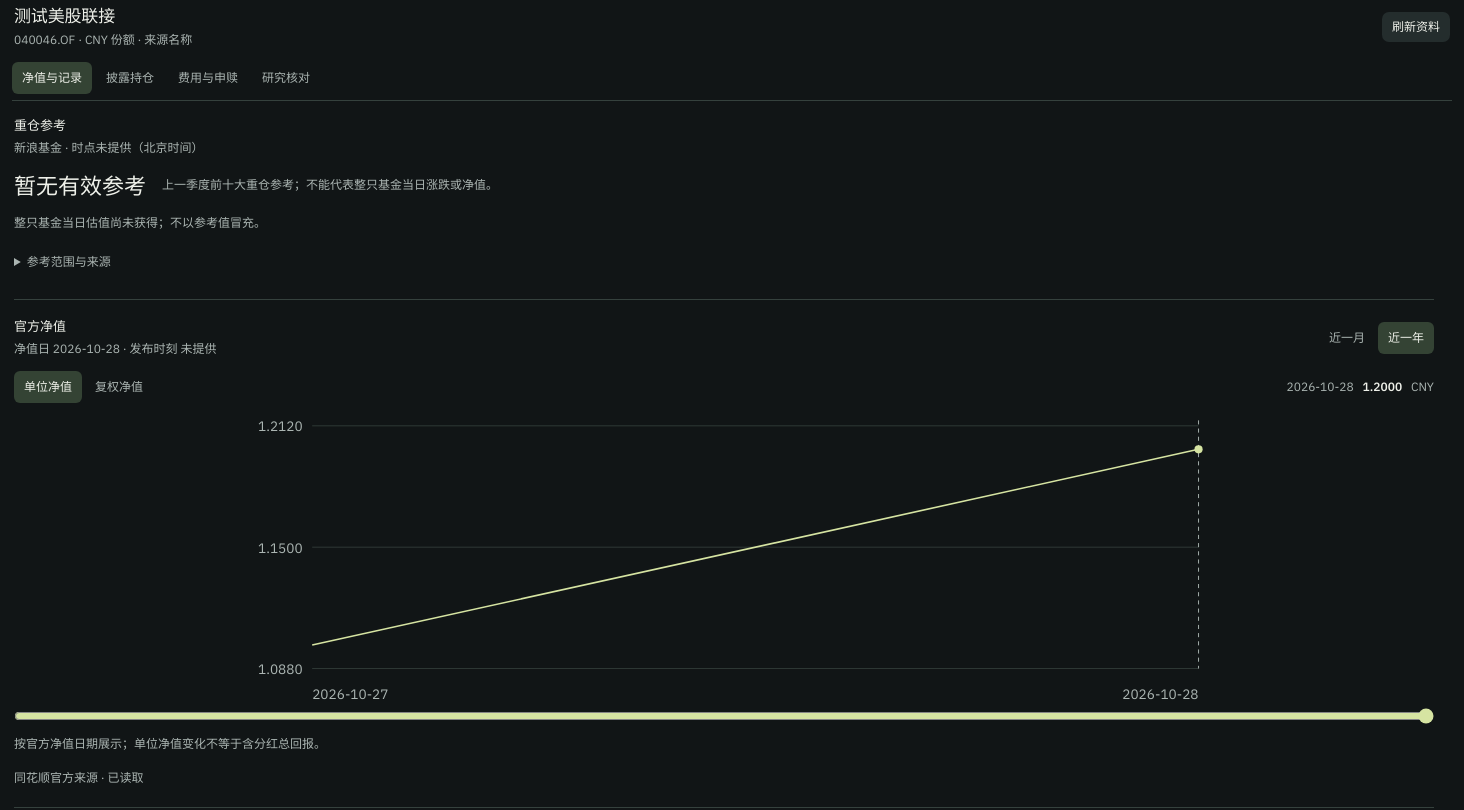
Test case: 基金真实阅读交互 › 净值日期游标与口径可切换，不把复权值当单位净值
Set the slider named "选择净值日期" to "0" at (22,716), box [14, 704, 1434, 728]
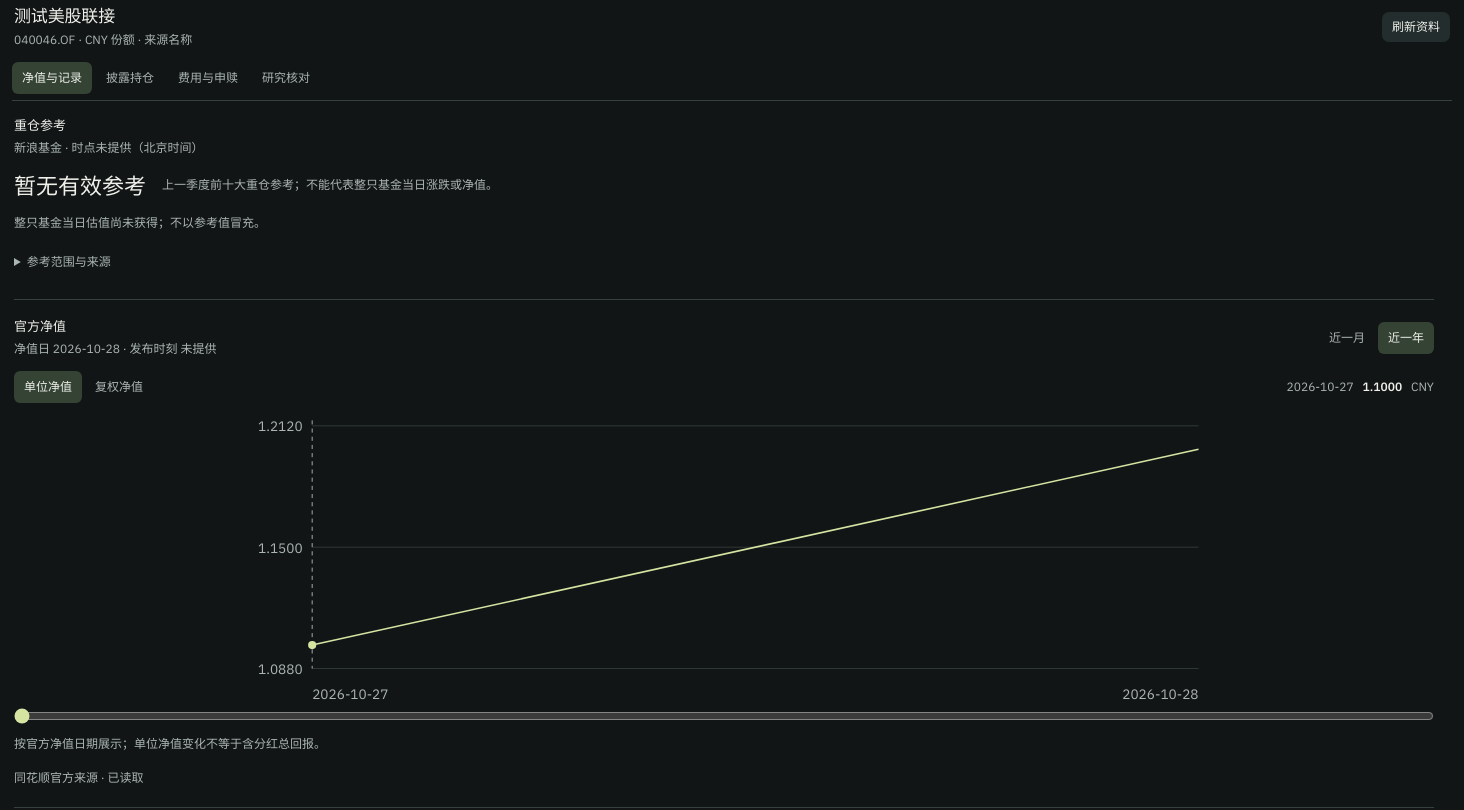
Expected: the text "1.1000" is shown, [1363, 379, 1402, 394]
Click the button "复权净值".
click(119, 387)  # box [85, 371, 153, 403]
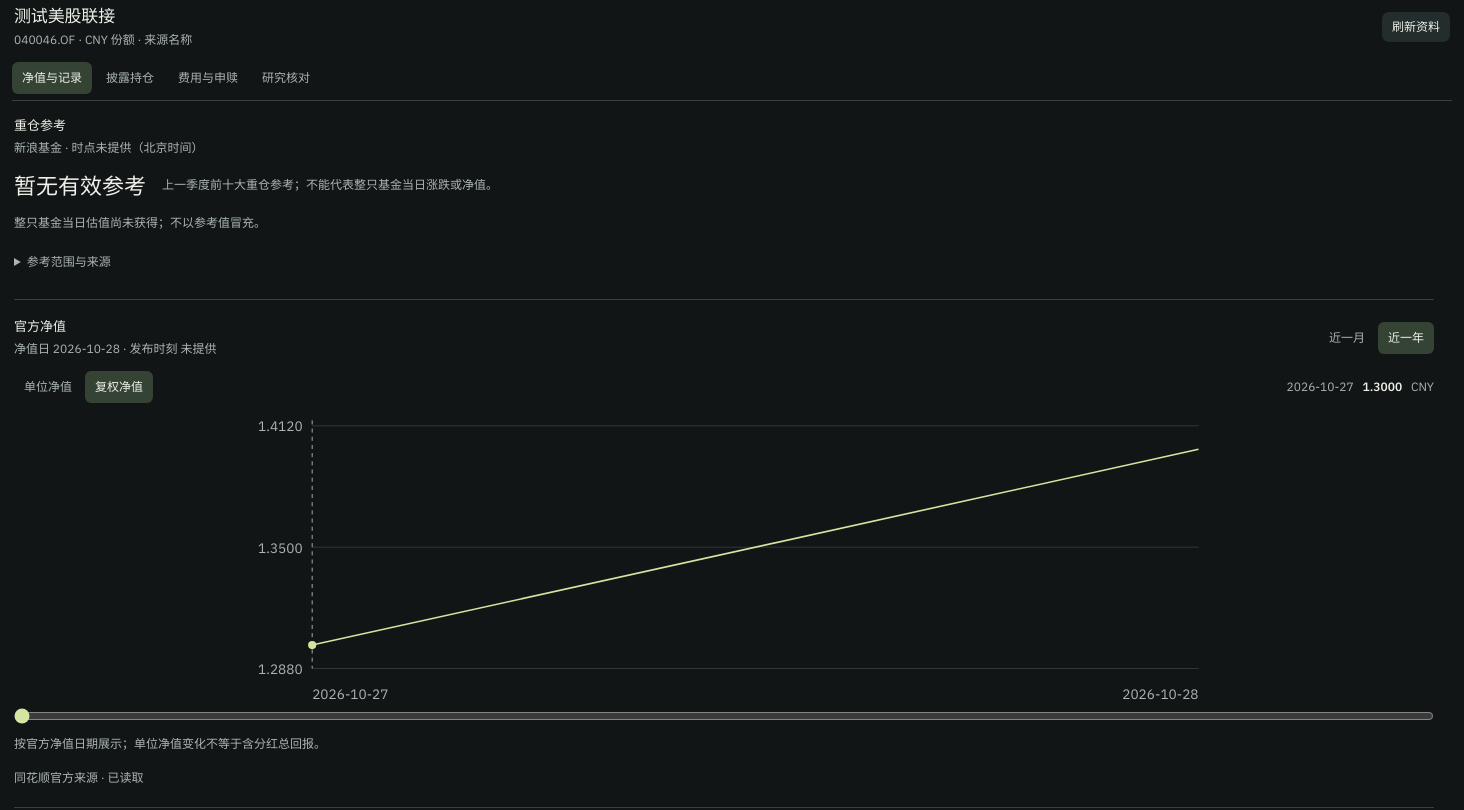
Expected: the text "1.3000" is shown, [1363, 379, 1402, 394]
